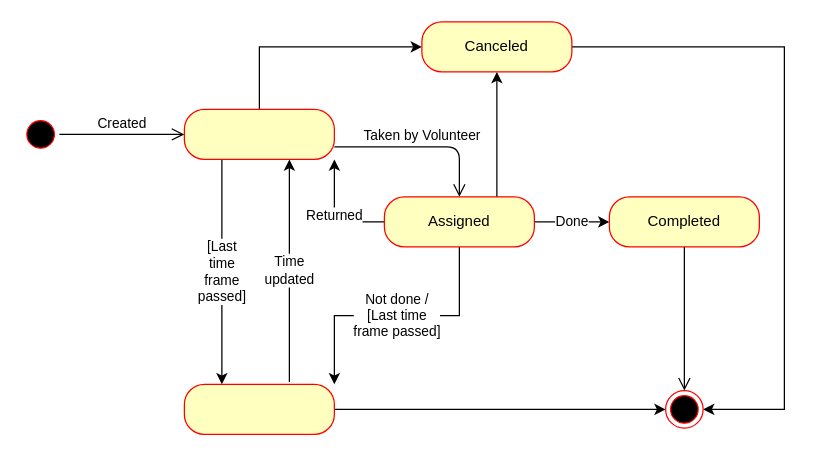
Image size: 816x456. Some labels were removed from this diagram. Each missing label, with the centre of its shape:
"Expired" belongs at point (258, 408).
"Open" belongs at point (258, 133).
